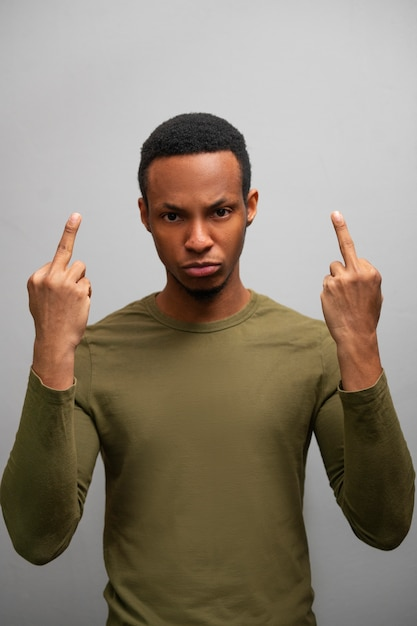insulting_gesture: (24, 211, 94, 345), (317, 208, 387, 341)
